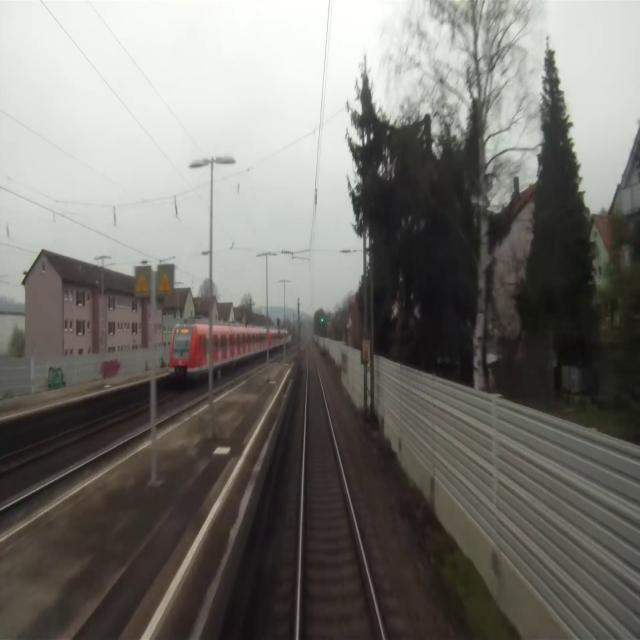rail-track: (300, 345, 381, 639), (0, 401, 150, 469), (156, 387, 182, 399)
